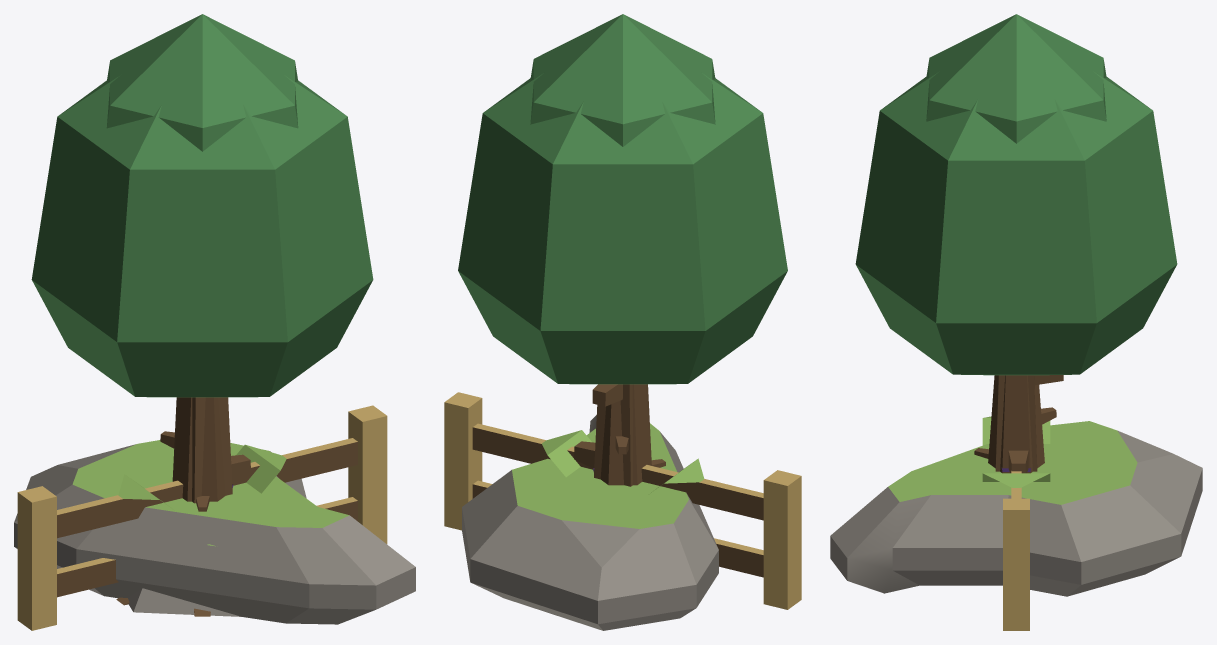
Rendered from props_island1.glb.
The picture shows the model from 3 angles, left to right: view 1: azimuth 30°, elevation 25°; view 2: azimuth 150°, elevation 25°; view 3: azimuth 270°, elevation 25°; orthographic projection. The views are drawn at different scales.
Visible parts, largest first — view 1: tree_b, rock_a, tree_a, fence_post, bush, rock_b; view 2: tree_b, rock_a, tree_a, fence_post, bush, rock_b; view 3: tree_b, rock_a, tree_a, fence_post, bush.
Part boxes in pixels (box(x1,y1,x2,y2)): tree_b: box(31, 75, 373, 616); rock_a: box(14, 440, 415, 624); tree_a: box(106, 14, 298, 503); fence_post: box(17, 405, 387, 630); bush: box(118, 444, 286, 546); rock_b: box(128, 477, 241, 616); tree_b: box(458, 73, 787, 485); rock_a: box(462, 415, 718, 630); tree_a: box(530, 14, 715, 486); fence_post: box(444, 392, 801, 609); bush: box(542, 430, 704, 492); rock_b: box(579, 471, 645, 493); tree_b: box(855, 71, 1177, 473); rock_a: box(830, 421, 1202, 596); tree_a: box(926, 14, 1106, 473); fence_post: box(1003, 471, 1029, 630); bush: box(982, 416, 1050, 487).
Size of the model in its own units: 2.03 by 3.1 by 1.95.
